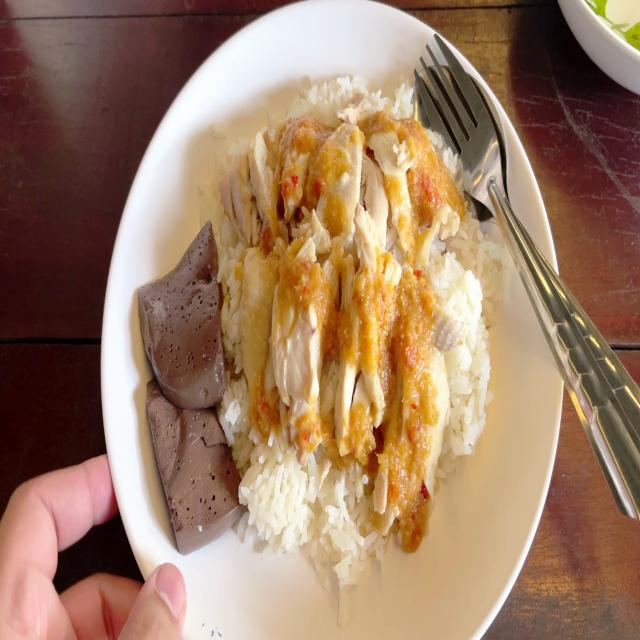boiled_chicken: (240, 132, 442, 432)
boiled_chicken_blood_jelly: (133, 217, 231, 407), (147, 366, 242, 541)
chicken_rice: (134, 69, 511, 609)
